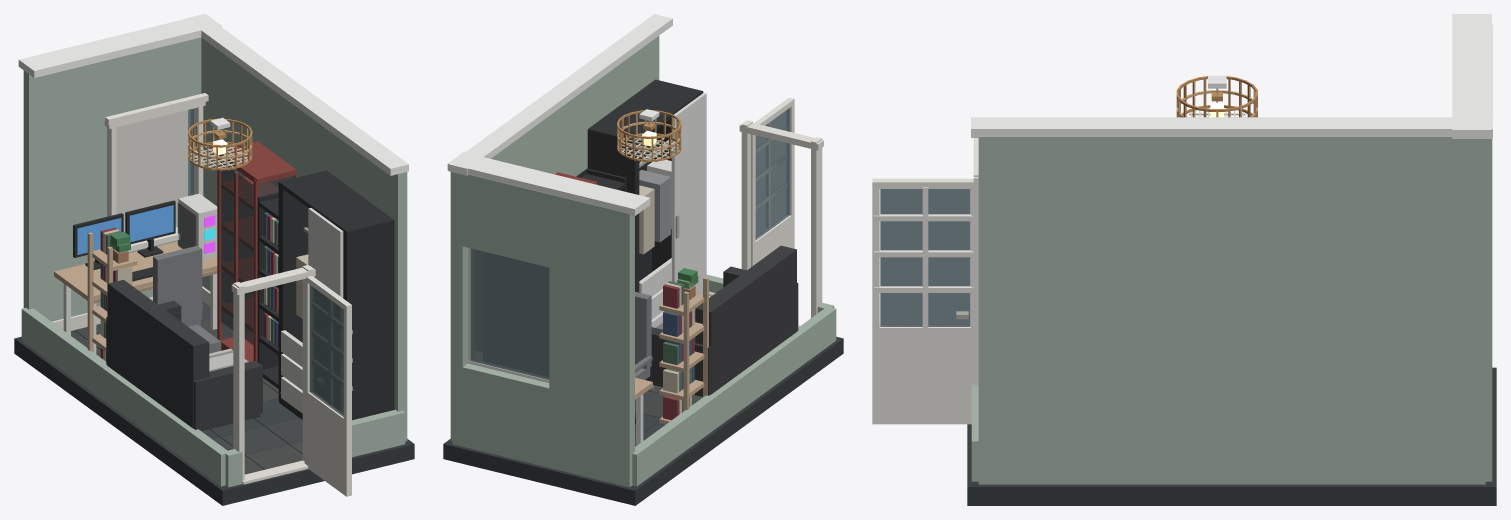
Rendered from mi_habitacion_base.glb.
The picture shows the model from 3 angles, left to right: view 1: azimuth 30°, elevation 25°; view 2: azimuth 150°, elevation 25°; view 3: azimuth 270°, elevation 25°; orthographic projection. The views are drawn at different scales.
Parts seen in each view (by area): view 1: pared_fondo_izquierda, pared_larga_derecha, respaldo_sofa, lateral_armario_abierto_2, pared_larga_izquierda_recortada, base_suelo, persiana_ventana, techo_blanco_lateral, pared_sobre_ventana, cristal_vitrina, techo_blanco_fondo, cristales_puerta (+41 smaller); view 2: pared_fondo_izquierda, cristal_ventana, respaldo_sofa, pared_larga_derecha, pared_larga_izquierda_recortada, pared_bajo_ventana, base_suelo, pared_sobre_ventana, puerta_blanca_armario, techo_blanco_lateral, techo_blanco_fondo, pared_fondo_derecha (+18 smaller); view 3: pared_larga_derecha, base_suelo, cristales_puerta, techo_blanco_lateral, hoja_inferior, techo_blanco_fondo, pared_fondo_derecha, hoja_lateral_2, marco_puerta_derecho, hoja_superior, parteluz_puerta, travesaño_puerta_2 (+3 smaller).
Part boxes in pixels (x1,y1,x2,y2): pared_fondo_izquierda: (23, 60, 108, 321); pared_larga_derecha: (201, 38, 407, 441); respaldo_sofa: (107, 279, 209, 428); lateral_armario_abierto_2: (342, 220, 394, 420); pared_larga_izquierda_recortada: (21, 308, 229, 486); base_suelo: (14, 336, 414, 505); persiana_ventana: (116, 110, 187, 231); techo_blanco_lateral: (185, 14, 408, 175); pared_sobre_ventana: (109, 39, 195, 116); cristal_vitrina: (220, 161, 253, 345); techo_blanco_fondo: (18, 14, 221, 77); cristales_puerta: (309, 285, 343, 416); pared_fondo_izquierda: (549, 194, 634, 487); cristal_ventana: (470, 248, 549, 379); respaldo_sofa: (695, 245, 796, 394); pared_larga_derecha: (450, 36, 659, 441); pared_larga_izquierda_recortada: (632, 307, 836, 486); pared_bajo_ventana: (462, 363, 549, 467); base_suelo: (443, 336, 843, 505); pared_sobre_ventana: (462, 174, 549, 267); puerta_blanca_armario: (671, 93, 706, 294); techo_blanco_lateral: (449, 14, 672, 175); techo_blanco_fondo: (447, 152, 650, 216); pared_fondo_derecha: (452, 172, 467, 446); pared_larga_derecha: (978, 136, 1485, 484); base_suelo: (967, 367, 1496, 505); cristales_puerta: (880, 189, 970, 326); techo_blanco_lateral: (971, 117, 1492, 137); hoja_inferior: (874, 325, 973, 424); techo_blanco_fondo: (1452, 14, 1491, 138); pared_fondo_derecha: (1485, 138, 1492, 481); hoja_lateral_2: (872, 178, 879, 424); marco_puerta_derecho: (973, 172, 978, 384); hoja_superior: (874, 178, 973, 188); parteluz_puerta: (922, 187, 928, 327); travesaño_puerta_2: (874, 250, 973, 257).
Size of the model in its own units: 2.28 by 3.34 by 5.05.
